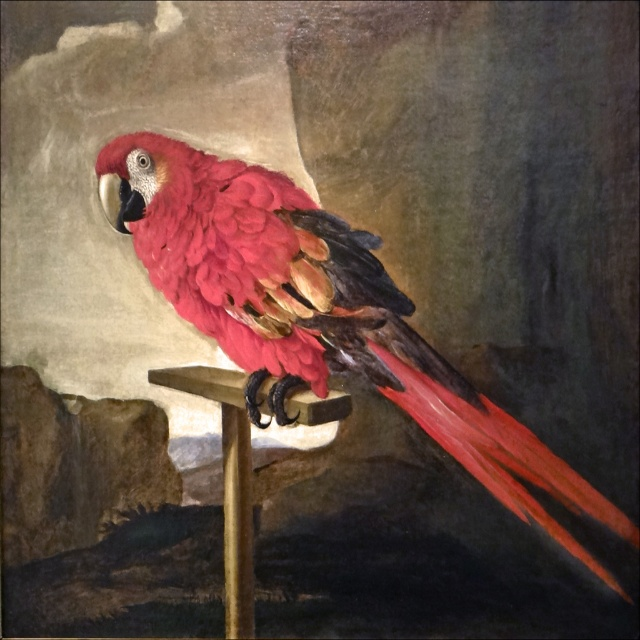Parrot: (92, 132, 640, 536)
